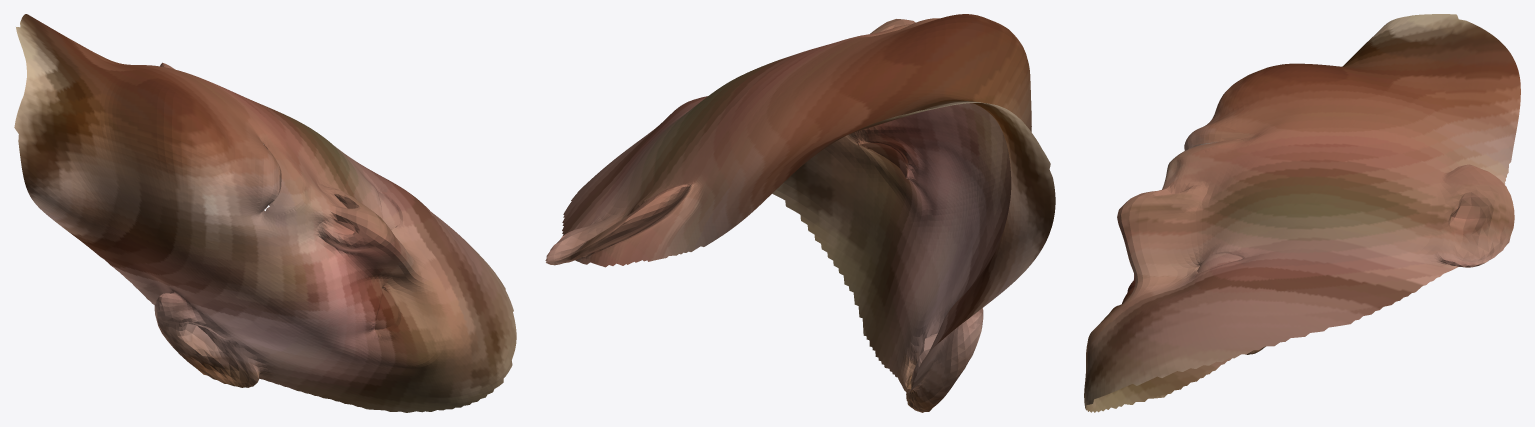
Rendered from 18crop_0.obj.
3 views of the same model, side by side, from view 1: azimuth 30°, elevation 25°; view 2: azimuth 150°, elevation 25°; view 3: azimuth 270°, elevation 25° (orthographic). The views are drawn at different scales.
Bounding box in the file's own units: 45.88 × 36.47 × 49.03.
